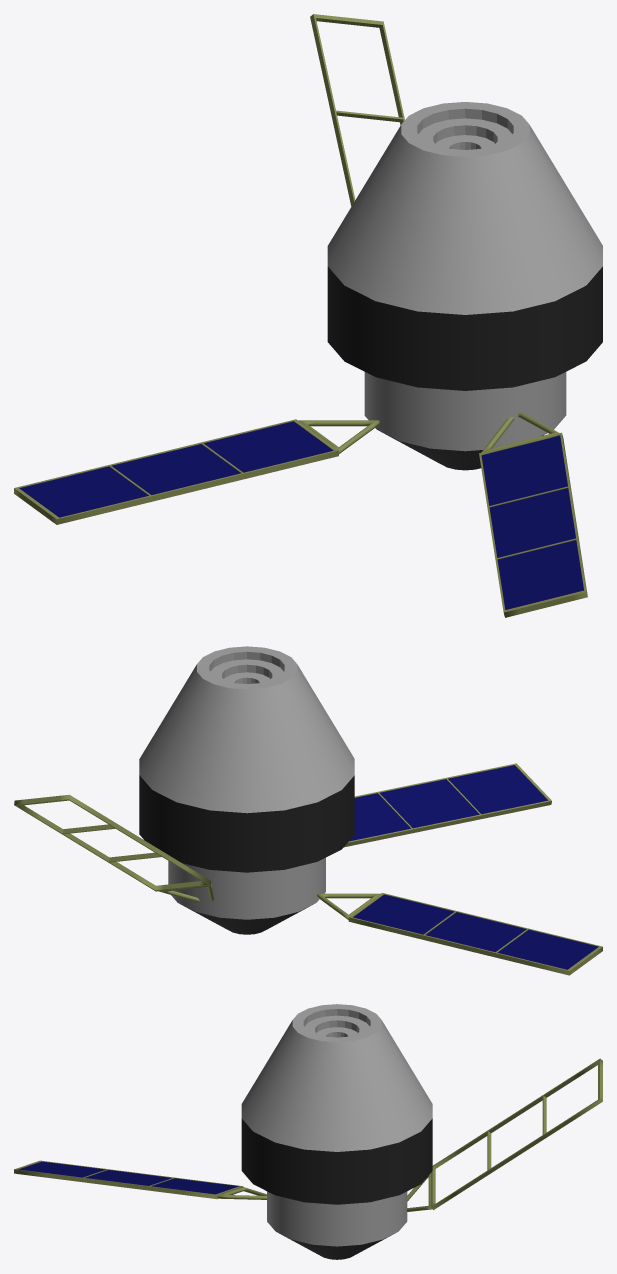
3 renders of one model, top to bottom at view 1: azimuth 30°, elevation 25°; view 2: azimuth 150°, elevation 25°; view 3: azimuth 270°, elevation 25°, orthographic. The views are drawn at different scales.
Visible parts, largest first — view 1: Cylinder001, Box011, Box012, Box013, Box008, Box009, Box010, Loft007, Loft006, Loft009, Loft008; view 2: Cylinder001, Loft006, Box012, Box013, Loft007, Box008, Box010, Box009, Loft009, Box011, Loft008; view 3: Cylinder001, Loft006, Loft009, Box011, Box012, Box013, Loft010.
Part boxes in pixels (x1,y1,x2,y2): Cylinder001: (327, 102, 602, 470); Box011: (481, 436, 567, 505); Box012: (497, 540, 583, 609); Box013: (489, 488, 575, 557); Box008: (204, 421, 333, 472); Box009: (19, 466, 148, 517); Box010: (112, 444, 240, 494); Loft007: (14, 419, 338, 524); Loft006: (310, 14, 404, 206); Loft009: (479, 432, 587, 617); Loft008: (298, 420, 379, 453); Cylinder001: (139, 646, 354, 934); Loft006: (14, 794, 211, 891); Box012: (448, 765, 547, 814); Box013: (380, 779, 479, 828); Loft007: (348, 893, 602, 975); Box008: (353, 894, 454, 934); Box010: (425, 912, 526, 952); Box009: (497, 930, 598, 969); Loft009: (344, 763, 551, 847); Box011: (349, 793, 410, 841); Loft008: (317, 893, 380, 919); Cylinder001: (241, 1004, 432, 1259); Loft006: (430, 1058, 602, 1209); Loft009: (14, 1160, 243, 1199); Box011: (151, 1178, 238, 1194); Box012: (18, 1161, 105, 1177); Box013: (85, 1170, 171, 1185); Loft010: (217, 1187, 266, 1199).
Bounding box in the file's own units: 53.96 × 30.71 × 71.75.
